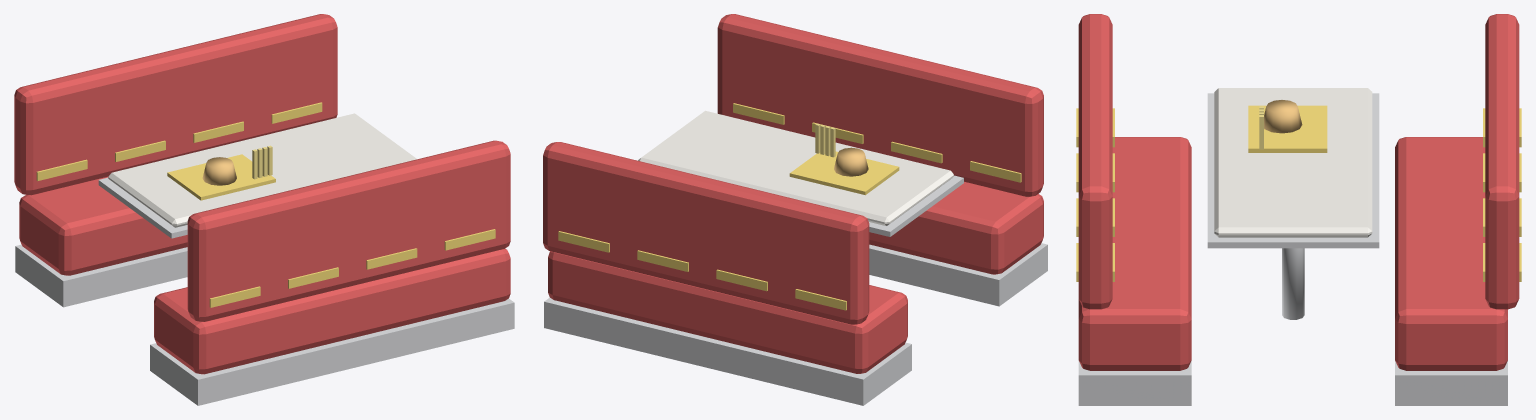
File: booth-burger.glb
The picture shows the model from 3 angles, left to right: view 1: azimuth 30°, elevation 25°; view 2: azimuth 150°, elevation 25°; view 3: azimuth 270°, elevation 25°; orthographic projection. The views are drawn at different scales.
Parts seen in each view (by area): view 1: booth-burger; view 2: booth-burger; view 3: booth-burger.
Part boxes in pixels (left/top/right/bottom): booth-burger: left=14, top=14, right=514, bottom=405; booth-burger: left=543, top=14, right=1047, bottom=405; booth-burger: left=1076, top=14, right=1521, bottom=405.
Bounding box in the file's own units: 1.9 × 1.05 × 1.97.
